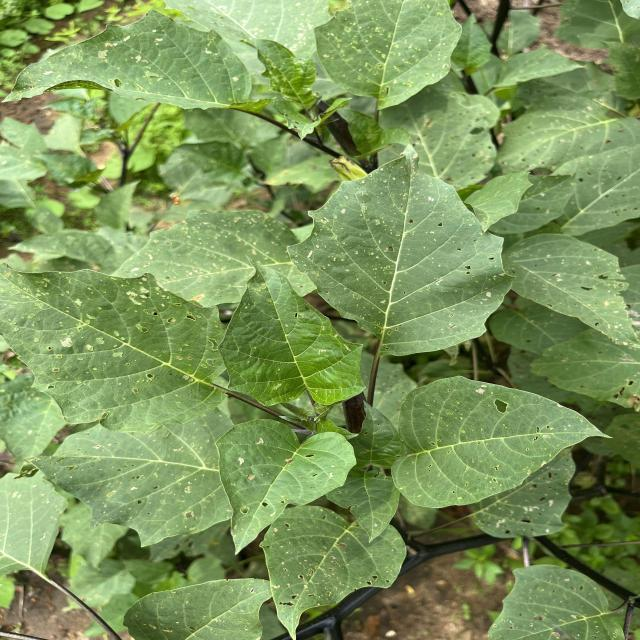Datura metal linn: (282, 140, 520, 360), (389, 372, 616, 510), (0, 6, 278, 114), (216, 250, 370, 410), (212, 416, 360, 558)
